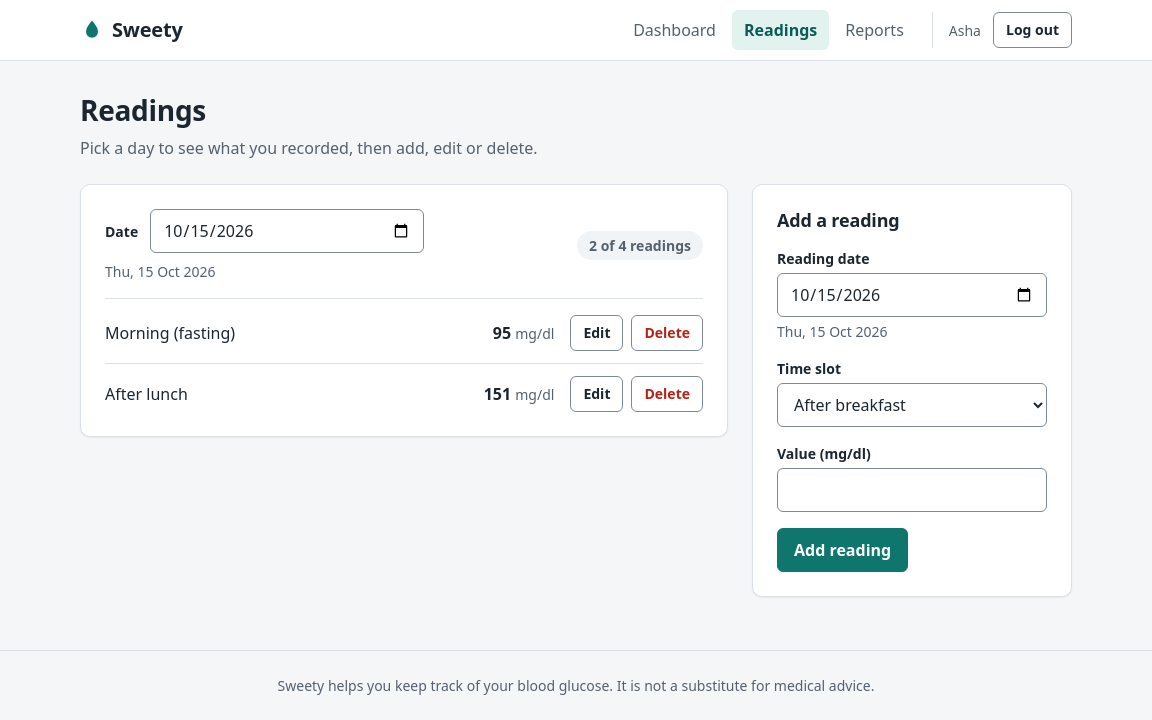
Editing and deleting readings › shows the server's message when a delete fails and refreshes the list
This screenshot has width=1152, height=720.
Expected: the text "2 of 4 readings" is shown, [577,231,703,260]
Click the button with aria-label "Delete After lunch reading".
click(667, 394)  # box [632,376,703,412]
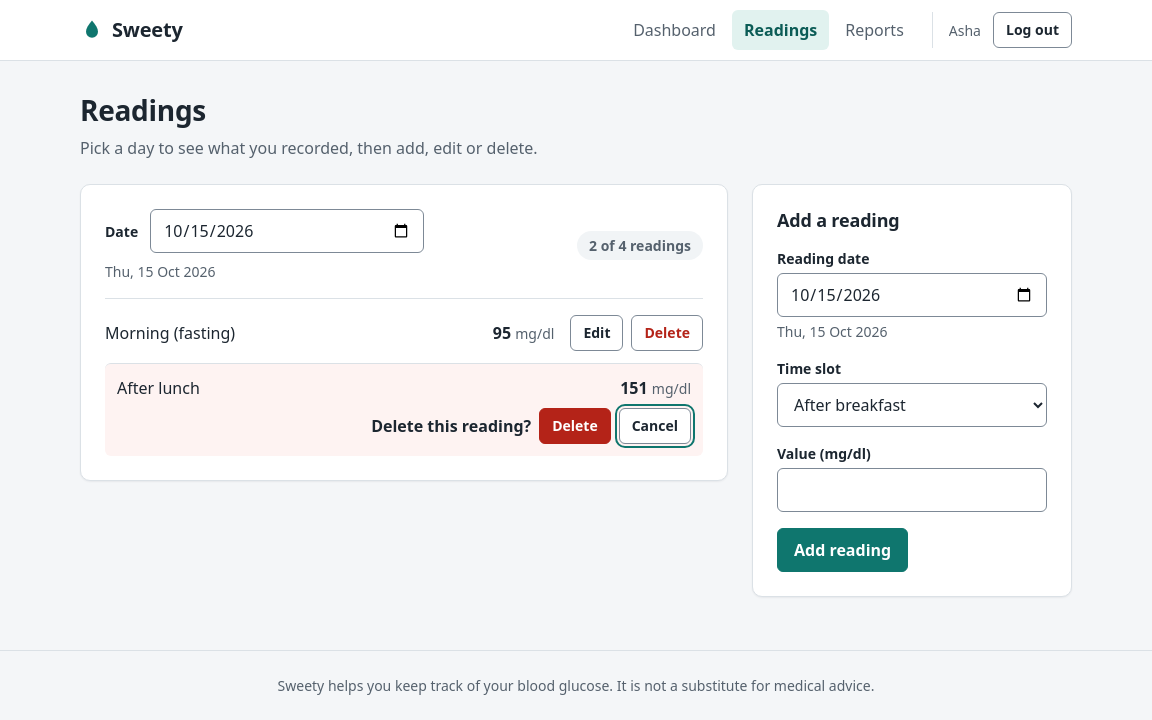
Click the button "Delete" next to "Delete this reading?".
click(575, 426)  # box [539,408,611,444]
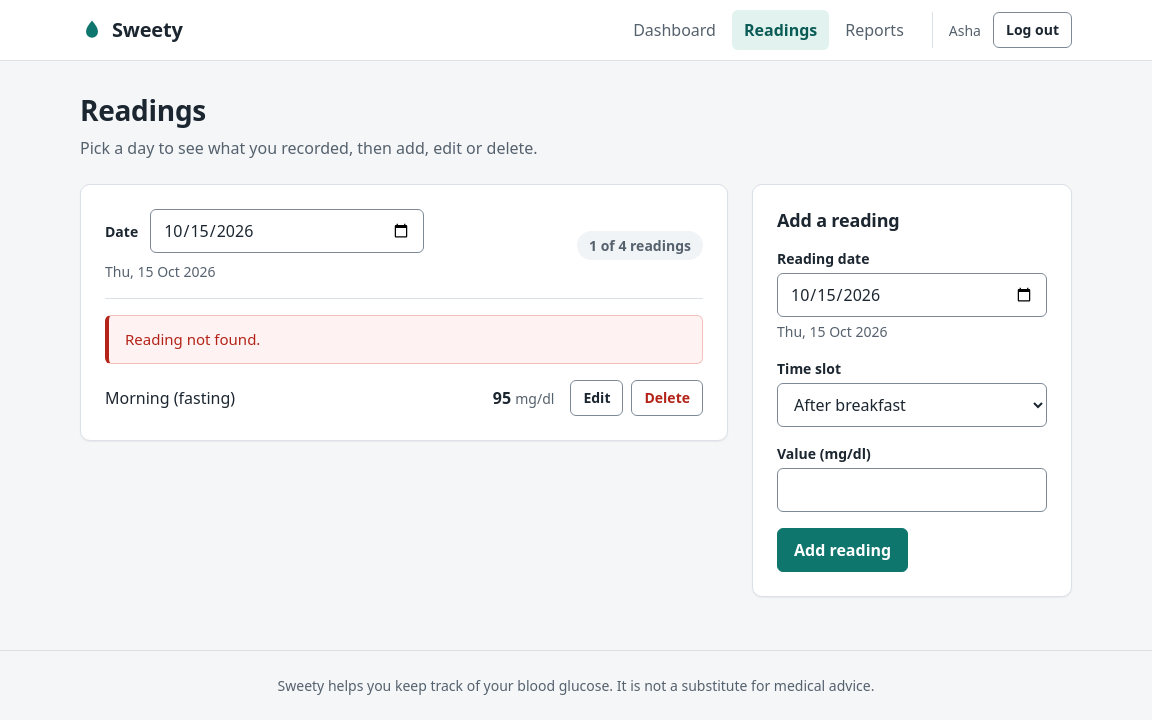
Expected: the message reads "Reading not found.", [125,329,260,349]
Expected: the text "1 of 4 readings" is shown, [577,231,703,260]
